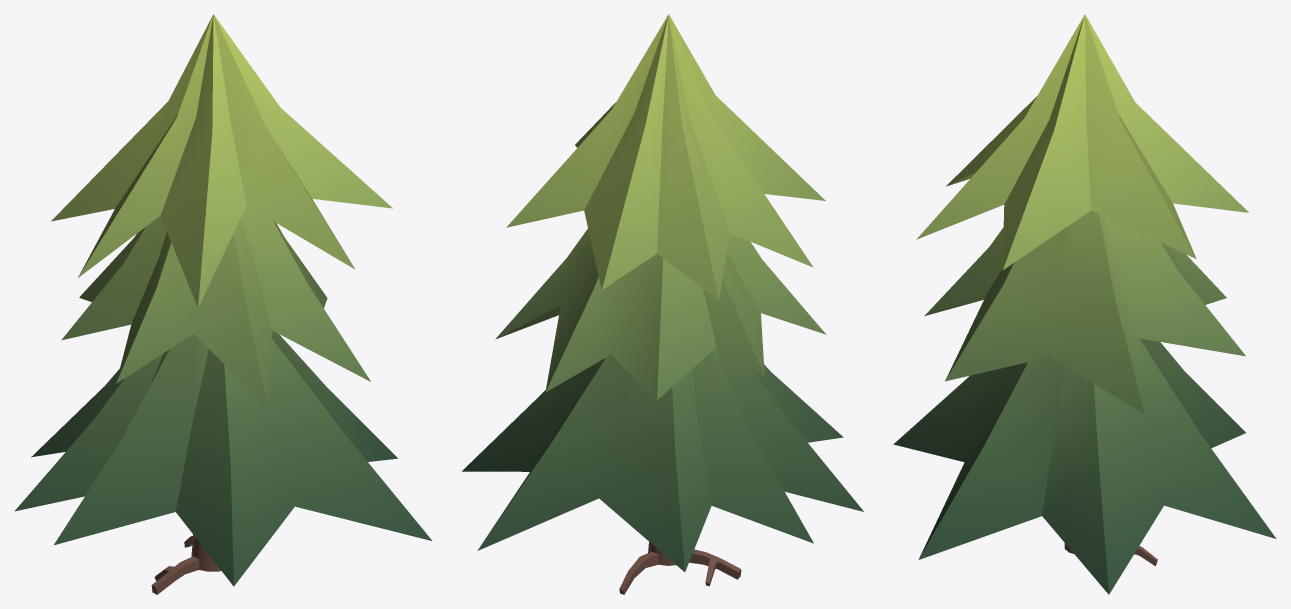
Rendered from Baum_sehr_klein.fbx.
3 renders of one model, left to right at view 1: azimuth 30°, elevation 25°; view 2: azimuth 150°, elevation 25°; view 3: azimuth 270°, elevation 25°, orthographic. The views are drawn at different scales.
Parts seen in each view (by area): view 1: small_tree.001; view 2: small_tree.001; view 3: small_tree.001.
Boxes of the visible parts, x1,y1,x2,y2 form: small_tree.001: (15, 14, 431, 594); small_tree.001: (462, 14, 863, 594); small_tree.001: (893, 14, 1276, 594).
Size of the model in its own units: 87.51 by 125 by 79.52.
